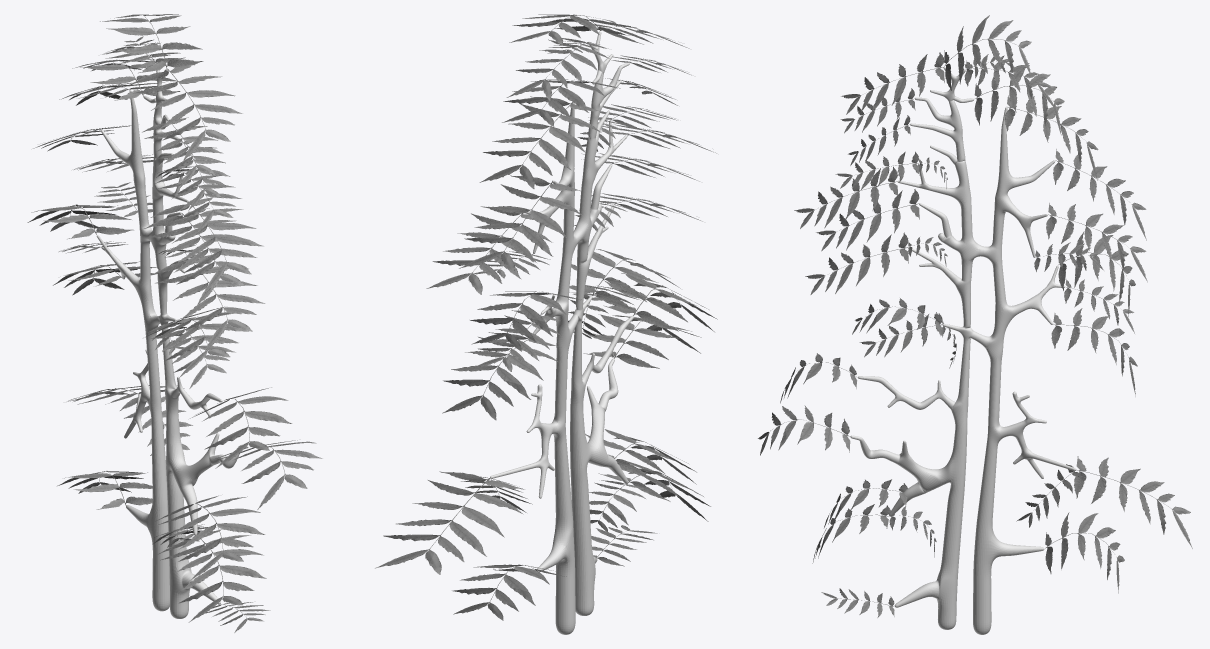
File: tree2.fbx
3 renders of one model, left to right at view 1: azimuth 30°, elevation 25°; view 2: azimuth 150°, elevation 25°; view 3: azimuth 270°, elevation 25°, orthographic. The views are drawn at different scales.
Visible parts, largest first — view 1: Cube, green_leaves_PNG3675.009, green_leaves_PNG3675.013, green_leaves_PNG3675.023, green_leaves_PNG3675.024, green_leaves_PNG3675.015, green_leaves_PNG3675.030, green_leaves_PNG3675.014, green_leaves_PNG3675.027, green_leaves_PNG3675.021, green_leaves_PNG3675.017, green_leaves_PNG3675.022 (+14 smaller); view 2: Cube, green_leaves_PNG3675, green_leaves_PNG3675.006, green_leaves_PNG3675.007, green_leaves_PNG3675.002, green_leaves_PNG3675.005, green_leaves_PNG3675.021, green_leaves_PNG3675.022, green_leaves_PNG3675.017, green_leaves_PNG3675.030, green_leaves_PNG3675.031, green_leaves_PNG3675.008 (+11 smaller); view 3: Cube, green_leaves_PNG3675, green_leaves_PNG3675.027, green_leaves_PNG3675.022, green_leaves_PNG3675.005, green_leaves_PNG3675.020, green_leaves_PNG3675.006, green_leaves_PNG3675.015, green_leaves_PNG3675.009, green_leaves_PNG3675.013, green_leaves_PNG3675.014, green_leaves_PNG3675.002 (+15 smaller).
Part boxes in pixels (x1,y1,x2,y2): Cube: [96, 69, 247, 618]; green_leaves_PNG3675.009: [129, 64, 242, 162]; green_leaves_PNG3675.013: [150, 197, 263, 295]; green_leaves_PNG3675.023: [157, 529, 266, 622]; green_leaves_PNG3675.024: [155, 495, 265, 580]; green_leaves_PNG3675.015: [151, 255, 265, 352]; green_leaves_PNG3675.030: [190, 387, 292, 468]; green_leaves_PNG3675.014: [143, 208, 257, 306]; green_leaves_PNG3675.027: [100, 14, 203, 73]; green_leaves_PNG3675.021: [27, 204, 134, 239]; green_leaves_PNG3675.017: [215, 440, 322, 509]; green_leaves_PNG3675.022: [57, 471, 152, 509]; Cube: [490, 31, 633, 634]; green_leaves_PNG3675: [375, 471, 524, 574]; green_leaves_PNG3675.006: [459, 175, 582, 274]; green_leaves_PNG3675.007: [479, 96, 601, 188]; green_leaves_PNG3675.002: [442, 332, 559, 420]; green_leaves_PNG3675.005: [426, 206, 552, 294]; green_leaves_PNG3675.021: [470, 291, 581, 351]; green_leaves_PNG3675.022: [452, 564, 566, 620]; green_leaves_PNG3675.017: [583, 314, 701, 368]; green_leaves_PNG3675.030: [603, 273, 717, 331]; green_leaves_PNG3675.031: [569, 249, 680, 311]; green_leaves_PNG3675.008: [506, 38, 609, 100]; Cube: [850, 66, 1075, 634]; green_leaves_PNG3675: [1074, 456, 1192, 548]; green_leaves_PNG3675.027: [944, 15, 1031, 90]; green_leaves_PNG3675.022: [1045, 512, 1124, 593]; green_leaves_PNG3675.005: [1046, 203, 1147, 282]; green_leaves_PNG3675.020: [974, 63, 1064, 135]; green_leaves_PNG3675.006: [1053, 149, 1146, 240]; green_leaves_PNG3675.015: [805, 232, 908, 294]; green_leaves_PNG3675.009: [841, 52, 944, 114]; green_leaves_PNG3675.013: [794, 166, 898, 228]; green_leaves_PNG3675.014: [816, 189, 919, 251]; green_leaves_PNG3675.002: [1051, 308, 1137, 396].
Bounding box in the file's own units: 278 × 1021 × 686.
Materials: 2 (1 with a texture image).
